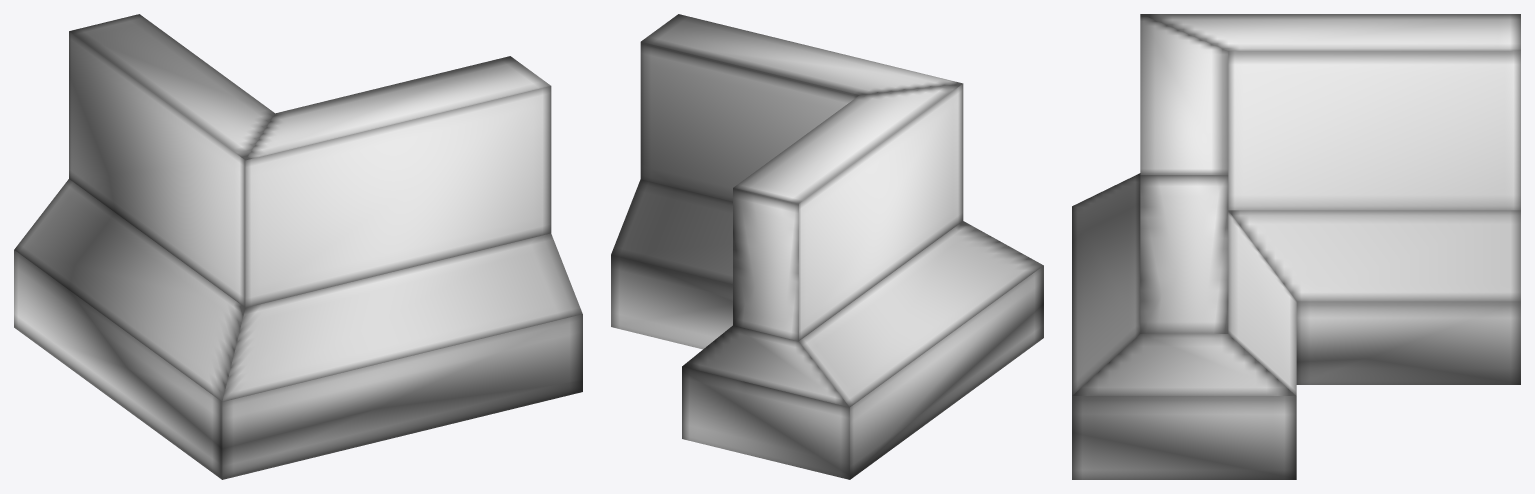
File: Concrete-Barrier-02.fbx
3 renders of one model, left to right at view 1: azimuth 30°, elevation 25°; view 2: azimuth 150°, elevation 25°; view 3: azimuth 270°, elevation 25°, orthographic. The views are drawn at different scales.
Parts seen in each view (by area): view 1: Concrete-Barrier-02; view 2: Concrete-Barrier-02; view 3: Concrete-Barrier-02.
Part boxes in pixels (x1=…): Concrete-Barrier-02: x1=14, y1=14, x2=582, y2=479; Concrete-Barrier-02: x1=611, y1=14, x2=1043, y2=479; Concrete-Barrier-02: x1=1072, y1=14, x2=1520, y2=479.
Bounding box in the file's own units: 0.6667 × 0.5 × 0.6667.
